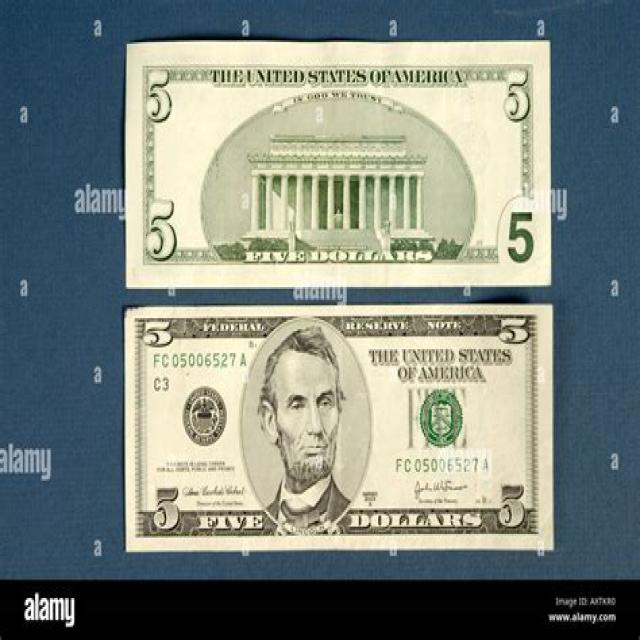Five: (123, 306, 555, 552), (127, 44, 552, 290)
